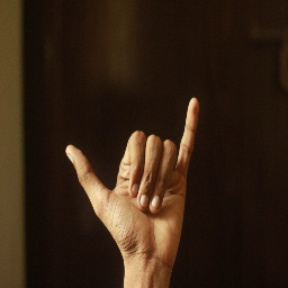J: (60, 91, 206, 253)
